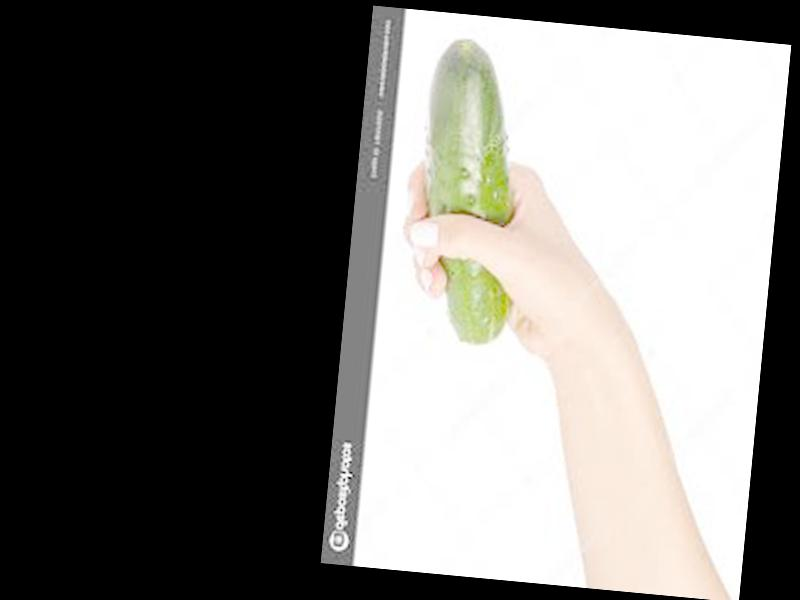Cucumber: (407, 35, 535, 345)
